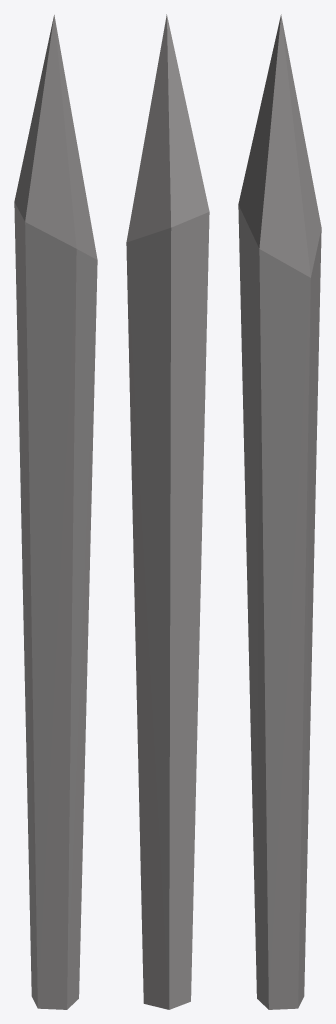
File: MetalSpike_5.fbx
The picture shows the model from 3 angles, left to right: view 1: azimuth 30°, elevation 25°; view 2: azimuth 150°, elevation 25°; view 3: azimuth 330°, elevation 25°; orthographic projection.
Visible parts, largest first — view 1: MetalSpike_5; view 2: MetalSpike_5; view 3: MetalSpike_5.
Part boxes in pixels (x1=…): MetalSpike_5: x1=14, y1=15, x2=97, y2=1009; MetalSpike_5: x1=126, y1=14, x2=209, y2=1009; MetalSpike_5: x1=238, y1=14, x2=321, y2=1009.
Size of the model in its own units: 6.24 by 81.15 by 5.93.
